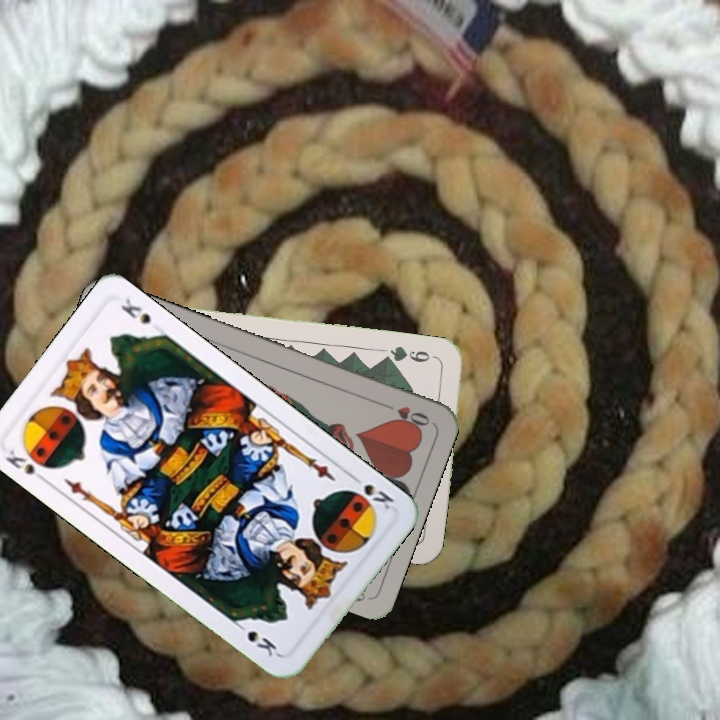G9: (382, 342, 441, 365)
HO: (377, 399, 433, 431)
SK: (1, 442, 55, 484), (346, 470, 397, 513)
